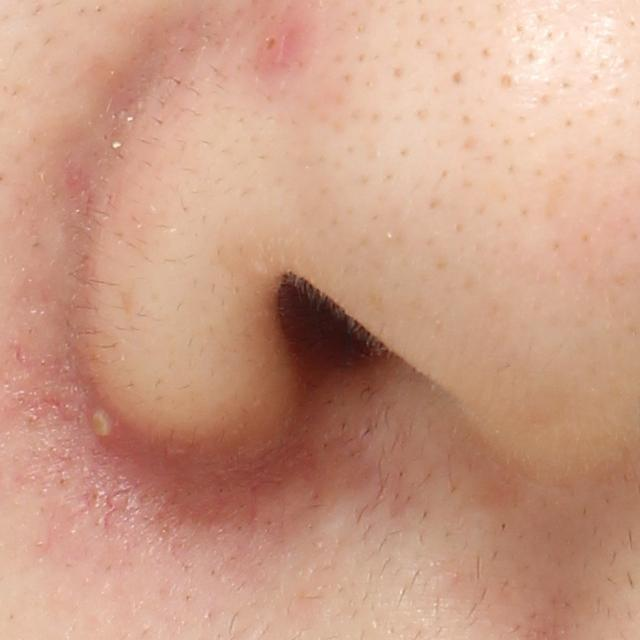pustule: (80, 402, 121, 452)
